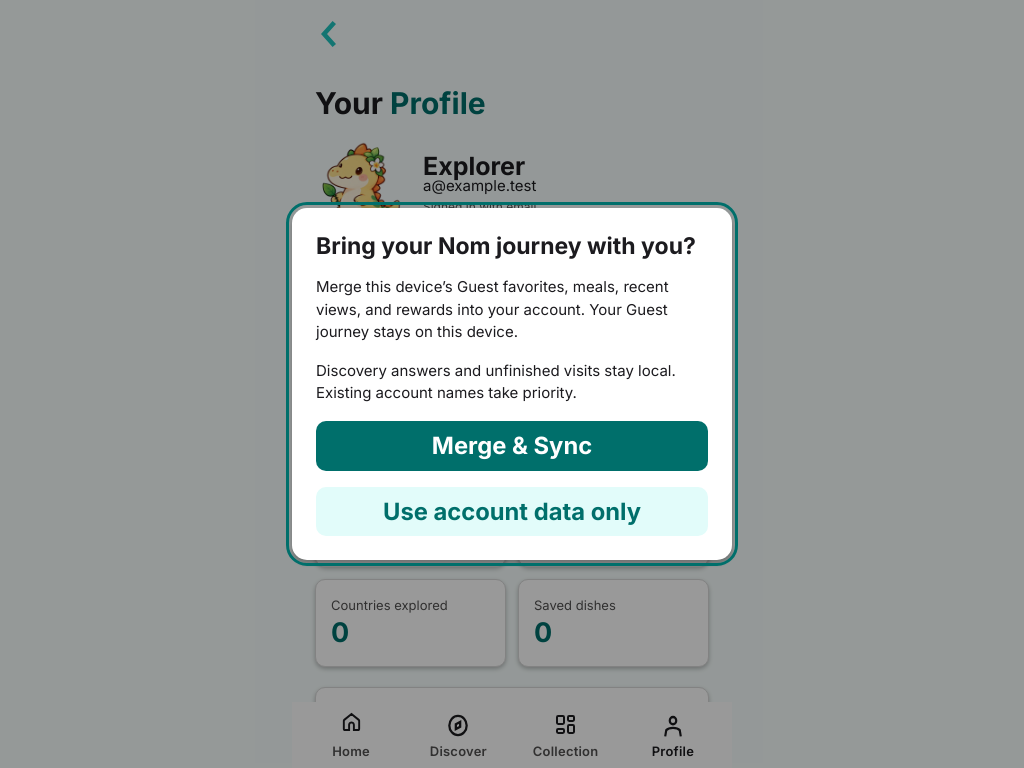
Test case: account routes and Guest-first entry › keeps Guest pending until explicit Merge & Sync
Click the button "Merge & Sync" at [512, 446], box [316,421,708,471]
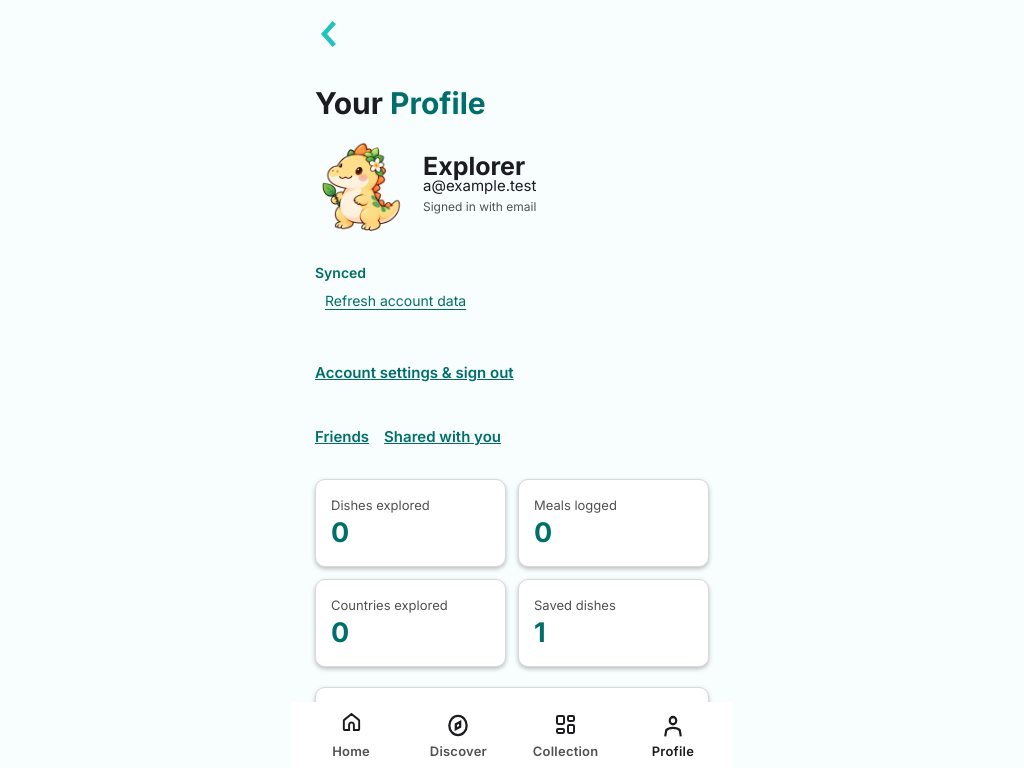
Expected: the text "Synced" is shown, [315,264,366,281]
Expected: the dialog is gone
